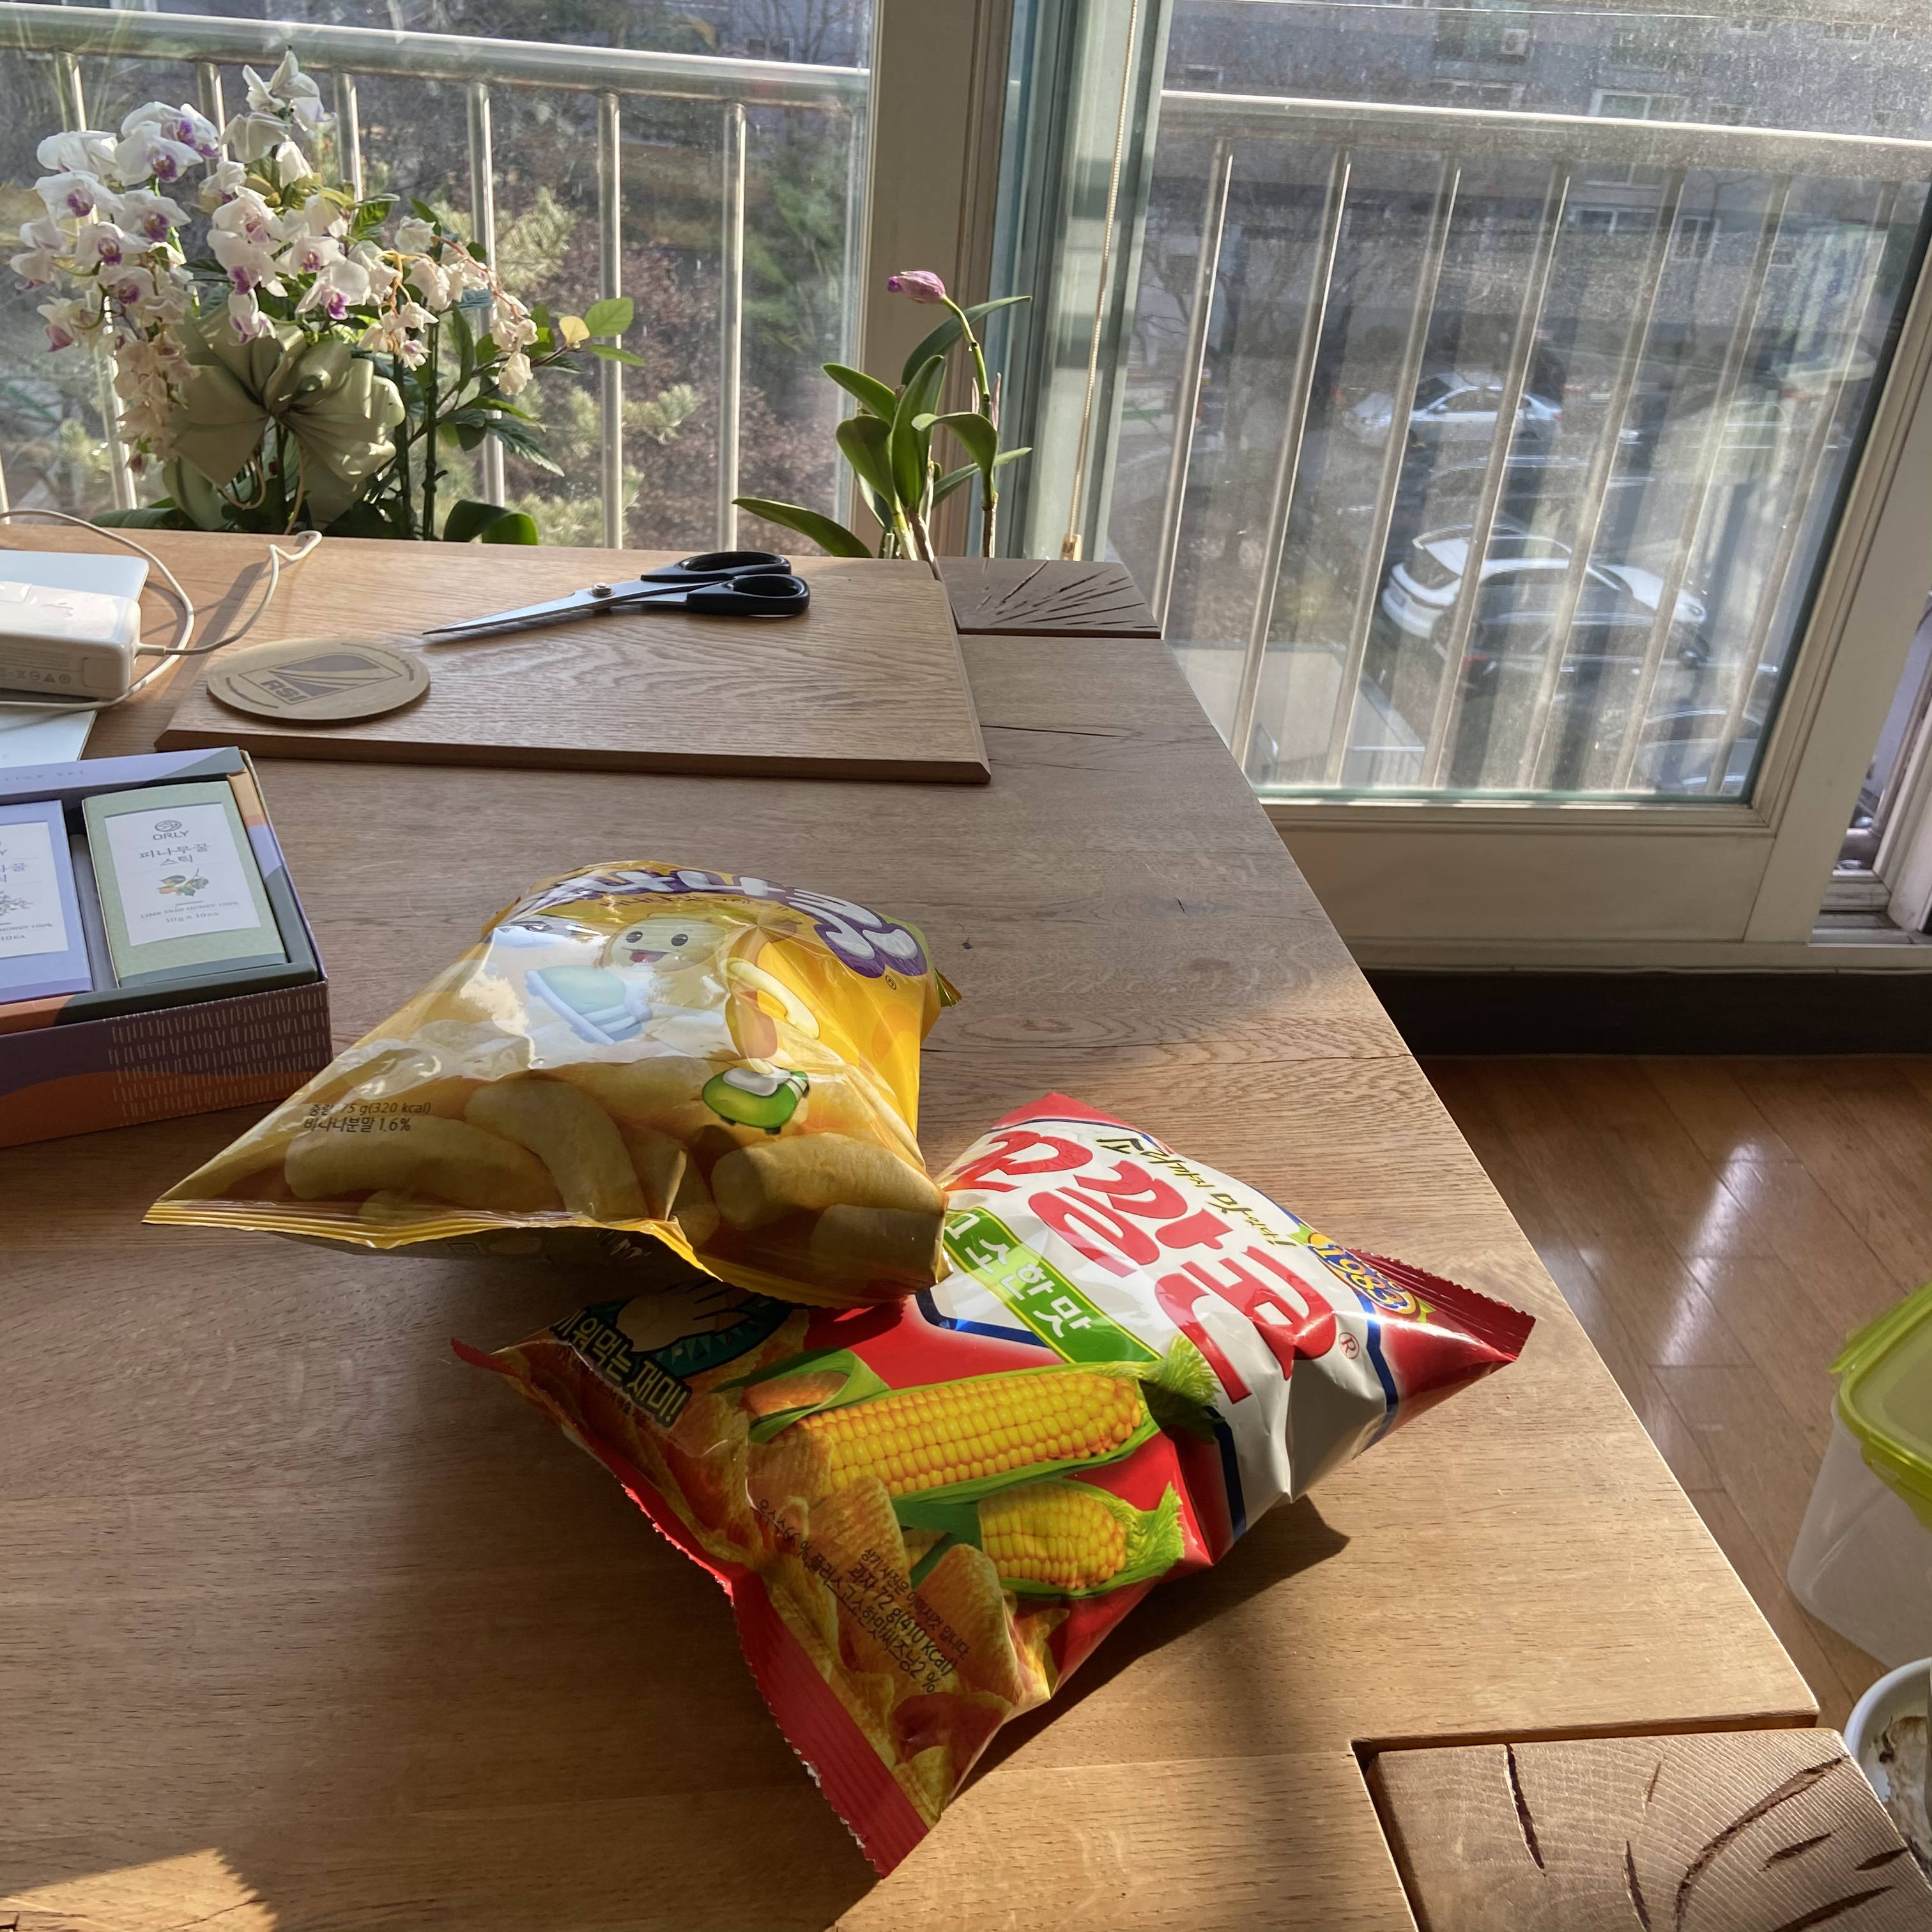banana: (124, 840, 971, 1327)
ggoggalcon: (432, 1069, 1546, 1893)
